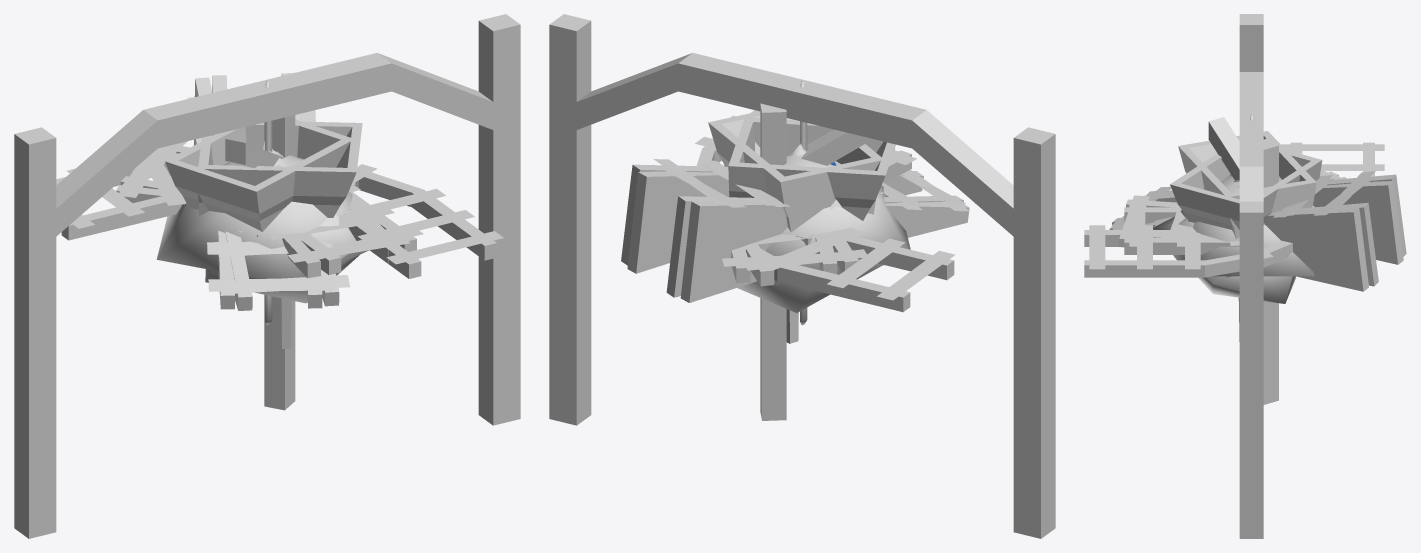
File: MineProps-transformed.glb
The picture shows the model from 3 angles, left to right: view 1: azimuth 30°, elevation 25°; view 2: azimuth 150°, elevation 25°; view 3: azimuth 270°, elevation 25°; orthographic projection. The views are drawn at different scales.
Visible parts, largest first — view 1: Rope_pile; view 2: Rope_pile; view 3: Rope_pile.
Part boxes in pixels (box(x1,y1,x2,y2)): Rope_pile: box(14, 14, 520, 538); Rope_pile: box(549, 14, 1055, 538); Rope_pile: box(1084, 14, 1406, 538).
Size of the model in its own units: 3.9 by 2.99 by 2.67.
2 materials, 1 textured.
